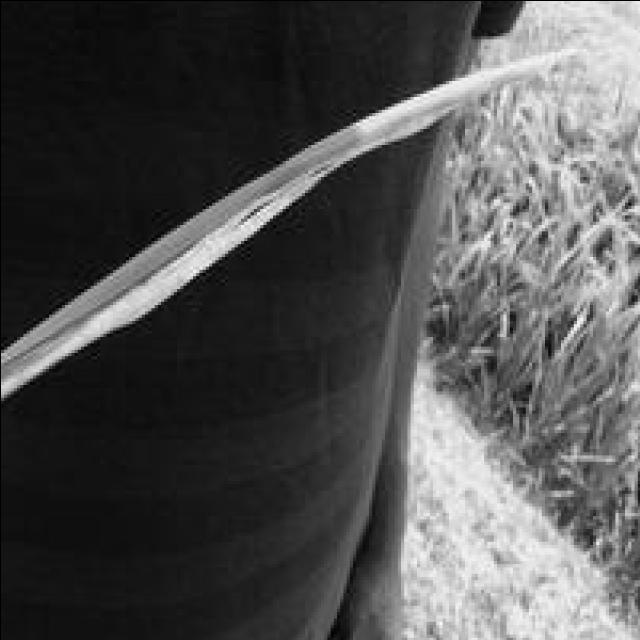Bacterial_Leaf_Blight: (0, 154, 349, 390)
